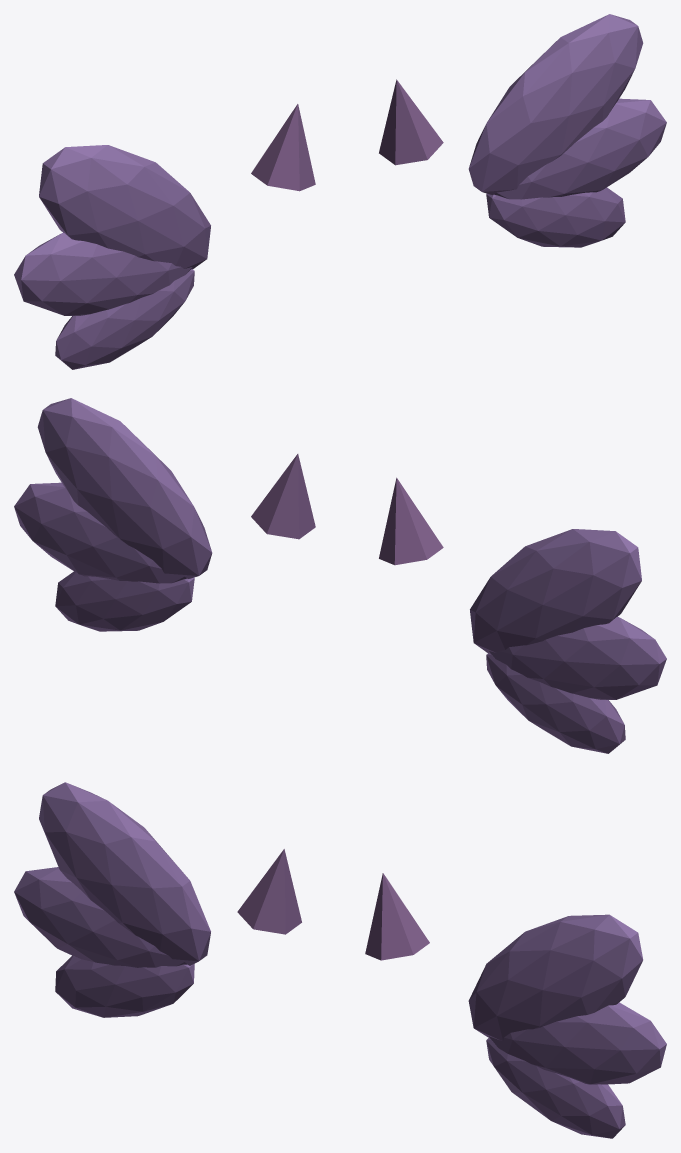
The model's file is goo_jar_hat@haunted.fbx.
The picture shows the model from 3 angles, top to bottom: view 1: azimuth 30°, elevation 25°; view 2: azimuth 150°, elevation 25°; view 3: azimuth 330°, elevation 25°; orthographic projection.
Visible parts, largest first — view 1: goo_jar_hat; view 2: goo_jar_hat; view 3: goo_jar_hat.
Part boxes in pixels (bbox=[...]): goo_jar_hat: bbox=[14, 14, 666, 369]; goo_jar_hat: bbox=[14, 398, 666, 753]; goo_jar_hat: bbox=[14, 782, 666, 1138].
Size of the model in its own units: 3.84 by 1.29 by 0.3764.
